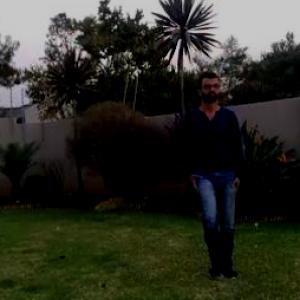follow: (177, 61, 254, 293)
